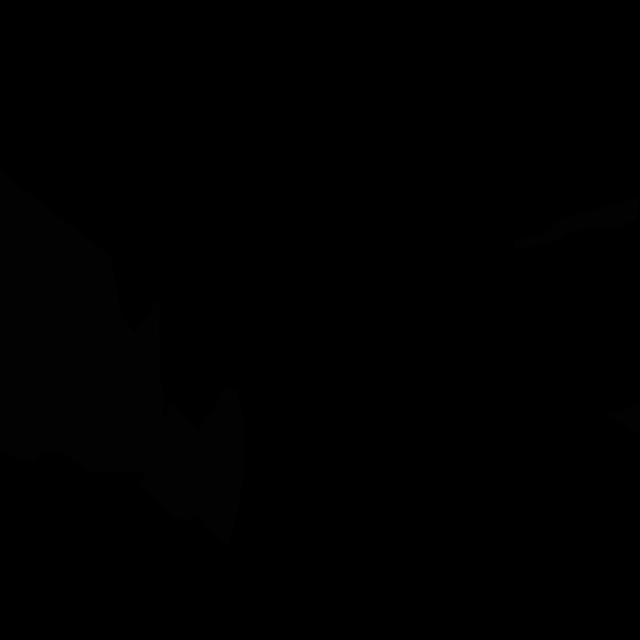cardboard: (0, 170, 164, 477), (138, 389, 246, 545), (514, 197, 640, 250), (604, 404, 640, 436)
